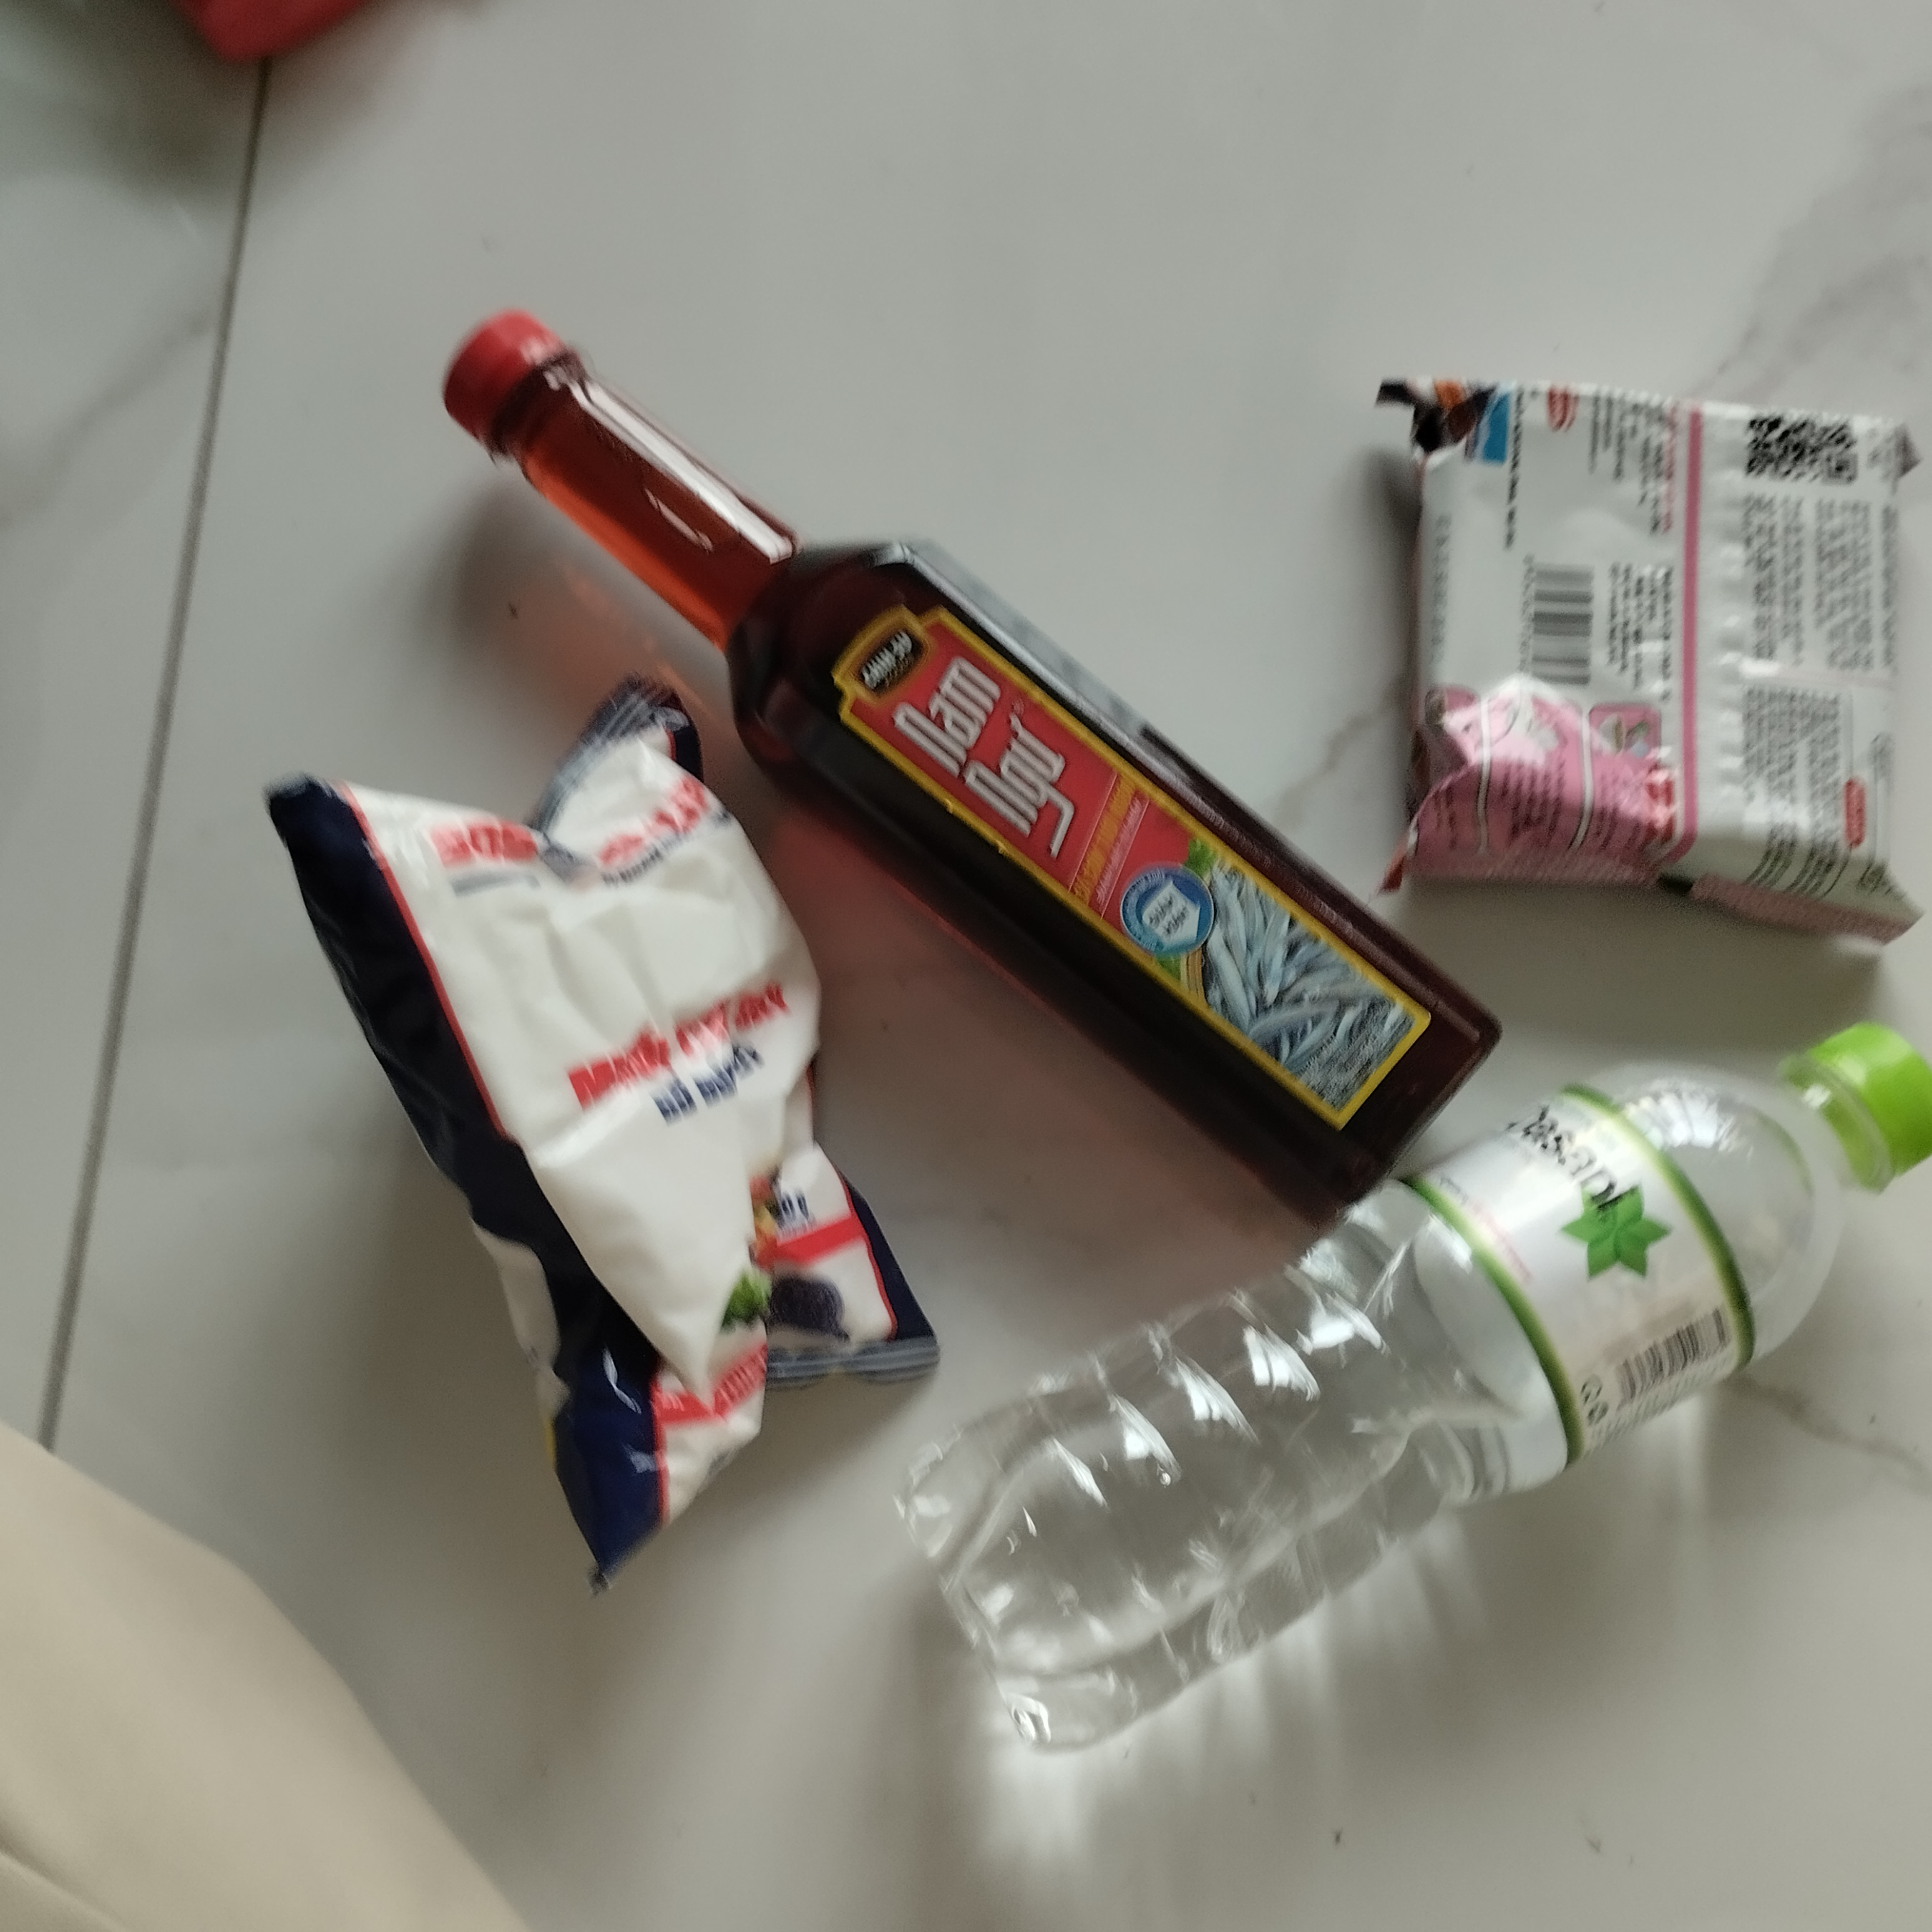Dasani: (893, 1017, 1932, 1771)
Haohao: (1352, 366, 1927, 932)
Namngu: (433, 301, 1511, 1231)
Salt: (237, 679, 950, 1606)
